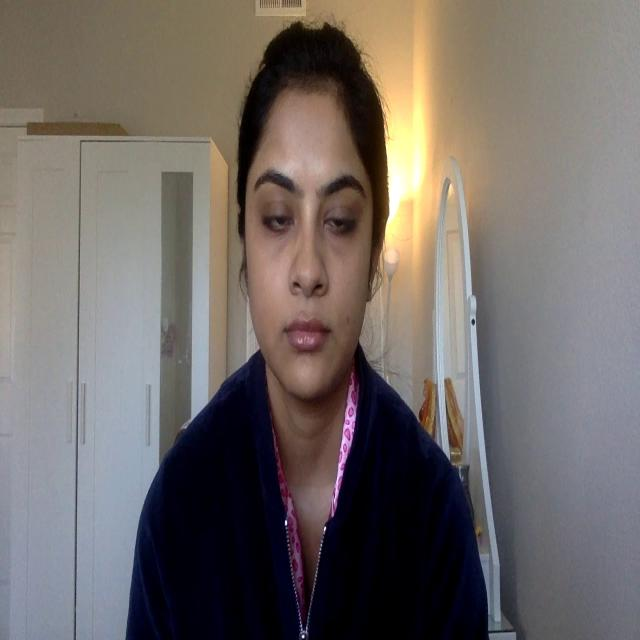Eyeclosed: (324, 205, 356, 240), (264, 203, 292, 237)
